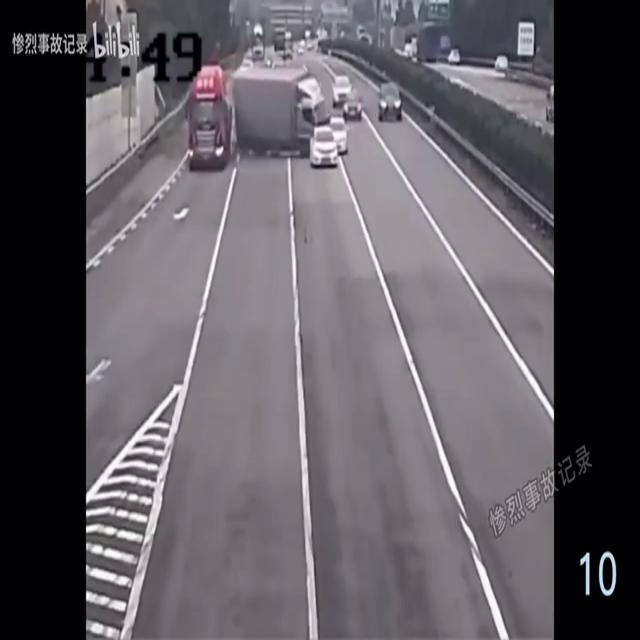accident: (235, 71, 349, 165)
non-accident: (332, 76, 362, 122)
